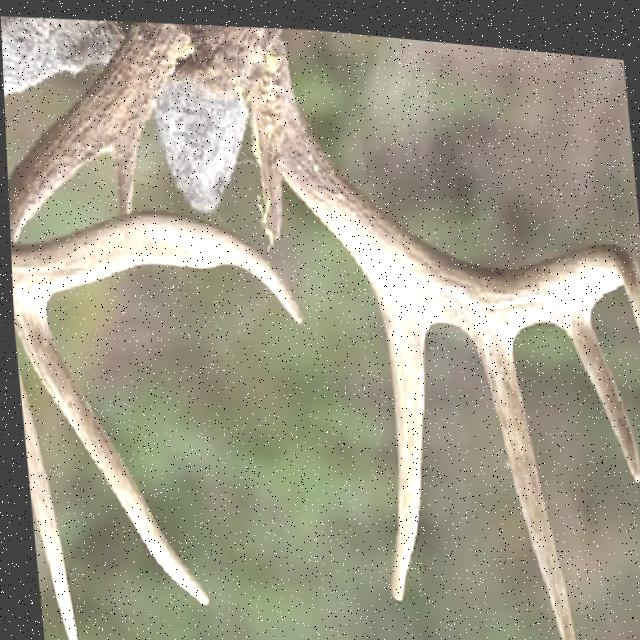L-F: (249, 32, 640, 327)
L-G1: (253, 128, 282, 236)
L-G2: (372, 284, 433, 596)
L-G3: (461, 319, 572, 640)
L-G4: (554, 297, 637, 471)
R-F: (6, 19, 304, 319)
R-G1: (104, 130, 139, 209)
R-G2: (14, 356, 73, 640)
R-G3: (10, 296, 206, 604)
